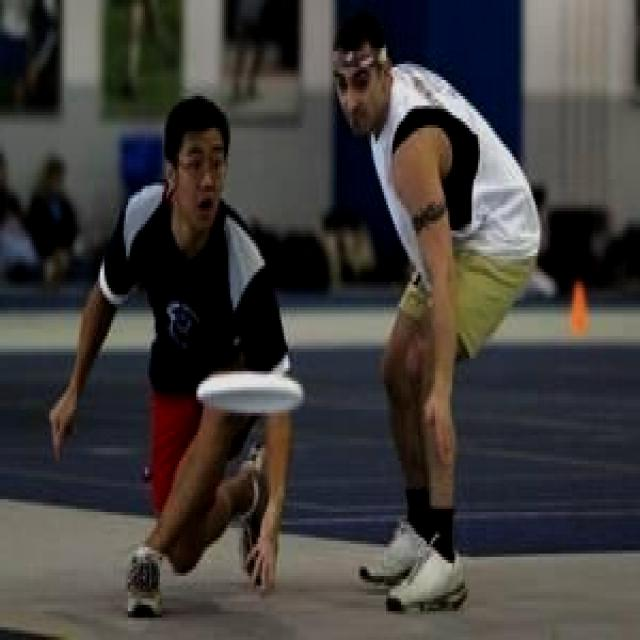no_vest: (365, 55, 551, 308), (93, 188, 298, 415)
